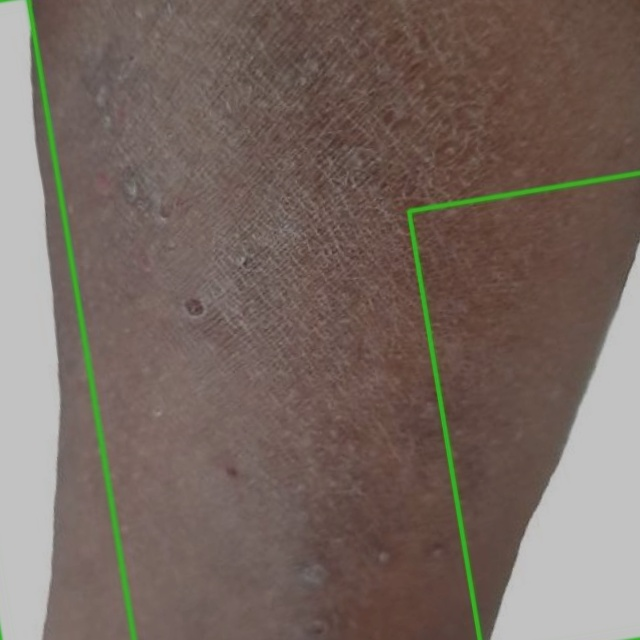Contact Dermatitis: (408, 173, 639, 639)
